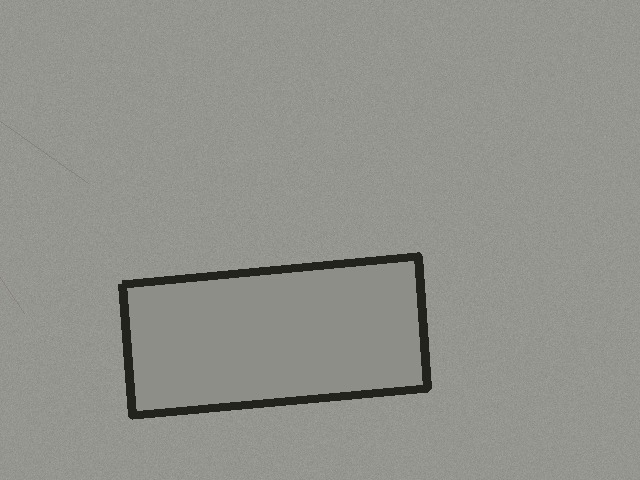parking_area: (122, 256, 427, 415)
